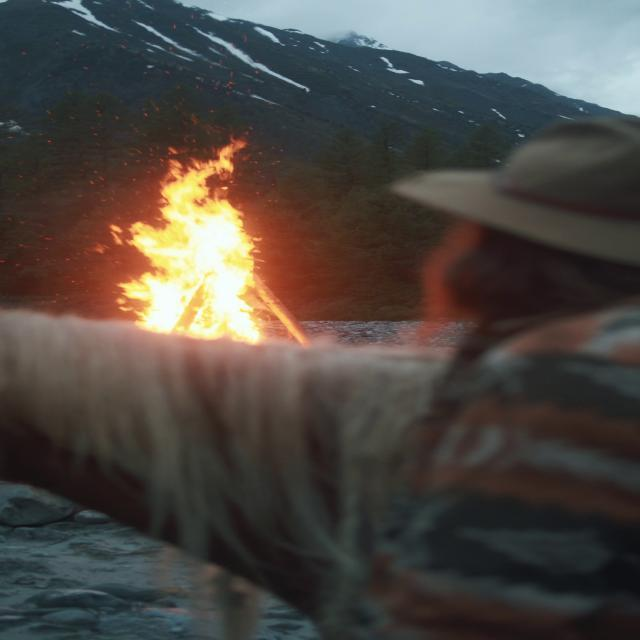Fire: (99, 134, 288, 344)
